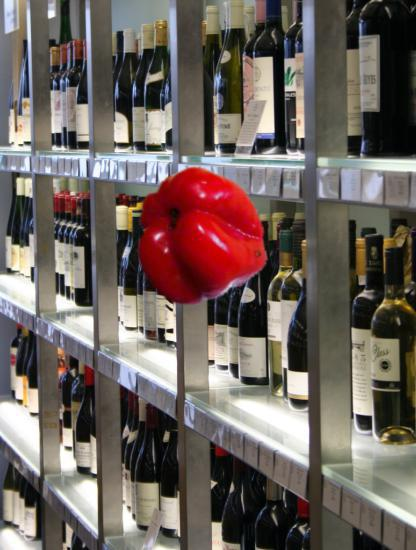Pepper: (129, 169, 270, 310)
